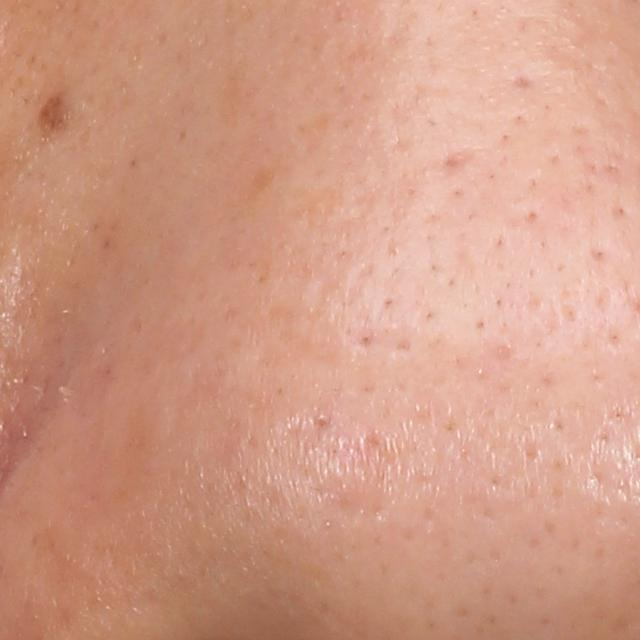atrophic_scar: (440, 146, 477, 179)
nevus: (38, 87, 71, 135)
